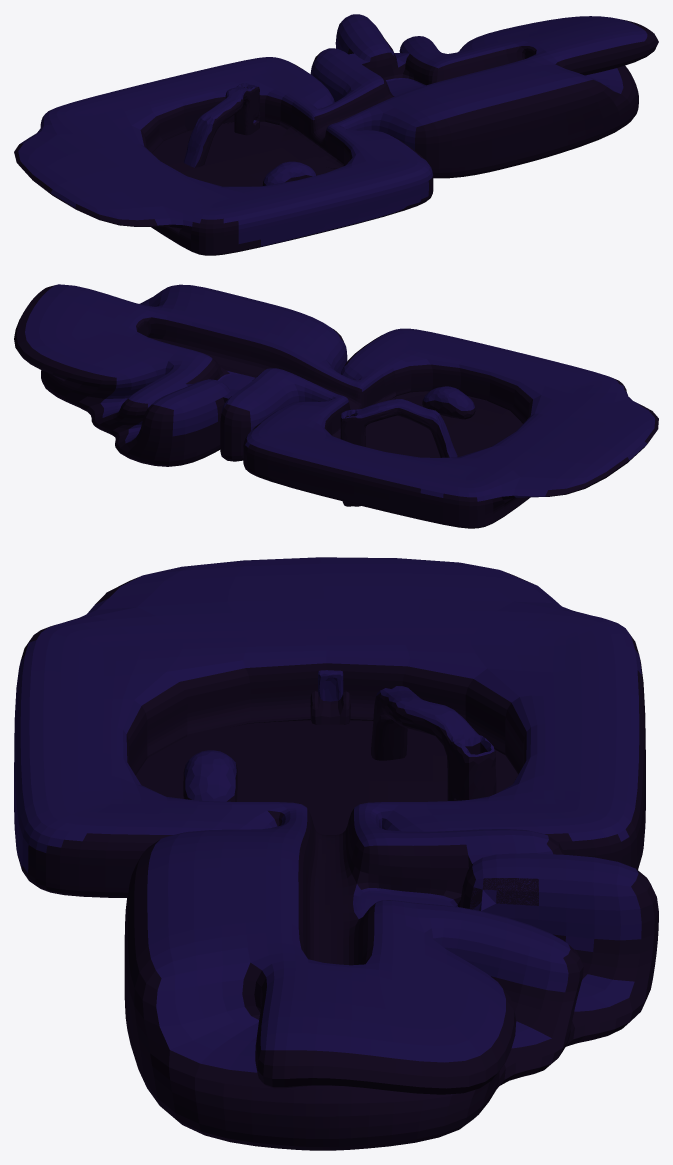
File: LVL3_TERRAIN.glb
3 renders of one model, top to bottom at view 1: azimuth 30°, elevation 25°; view 2: azimuth 150°, elevation 25°; view 3: azimuth 270°, elevation 25°, orthographic. The views are drawn at different scales.
Parts seen in each view (by area): view 1: Cube.003, Cube.005, Cube.004; view 2: Cube.003, Cube.005, Cube.004; view 3: Cube.003, Cube.005, Cube.004, Cube.006.
Boxes of the visible parts, x1=… form: Cube.003: x1=14, y1=14, x2=658, y2=255; Cube.005: x1=183, y1=83, x2=260, y2=167; Cube.004: x1=262, y1=161, x2=316, y2=185; Cube.003: x1=14, y1=284, x2=658, y2=528; Cube.005: x1=340, y1=399, x2=457, y2=506; Cube.004: x1=422, y1=386, x2=475, y2=419; Cube.003: x1=14, y1=557, x2=658, y2=1150; Cube.005: x1=371, y1=686, x2=496, y2=800; Cube.004: x1=183, y1=750, x2=237, y2=801; Cube.006: x1=310, y1=691, x2=350, y2=724.
Bounding box in the file's own units: 71.87 × 11.69 × 35.78.
